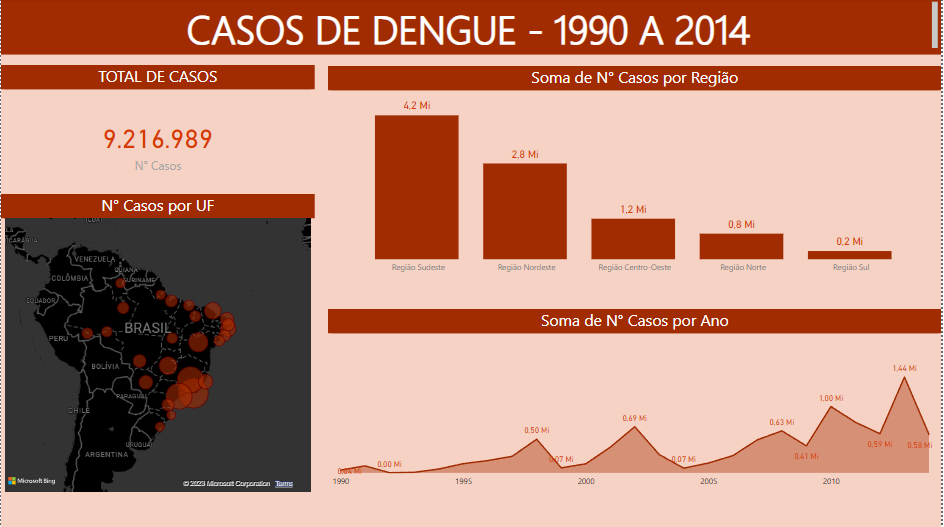

The dashboard page shown, as its layout file describes it:
{"tool":"powerbi","page":{"name":"Página 1","canvas":[1280,720],"ordinal":0},"visuals":[{"type":"card","title":"TOTAL DE CASOS","fields":{"Values":["Sum(Dengue.N° Casos)"]},"box":[0,91.7,426.7,188.3],"z":0},{"type":"clusteredColumnChart","fields":{"Category":["Dengue.Região"],"Y":["Sum(Dengue.N° Casos)"]},"box":[445,93,835,292],"z":1000},{"type":"areaChart","fields":{"Category":["Dengue.Ano"],"Y":["Sum(Dengue.N° Casos)"]},"box":[445,423.3,835,251.7],"z":2000},{"type":"map","title":"N° Casos por UF","fields":{"Size":["Sum(Dengue.N° Casos)"],"Category":["Dengue.UF - BRASIL"]},"box":[0,266.7,426.7,410],"z":3000},{"type":"textbox","box":[0,0,1280,76.7],"z":3001}]}

Visuals, with their boxes in screenshot pixels (x1, y1, x2, y2), scaled from the page's 1280x720 canvas onto the 944x527 screenshot:
"TOTAL DE CASOS" card: Rect(0, 67, 315, 205)
clusteredColumnChart - Dengue.Região x Sum(Dengue.N° Casos): Rect(328, 68, 943, 282)
areaChart - Dengue.Ano x Sum(Dengue.N° Casos): Rect(328, 310, 943, 494)
"N° Casos por UF" map: Rect(0, 195, 315, 495)
textbox: Rect(0, 0, 943, 56)
